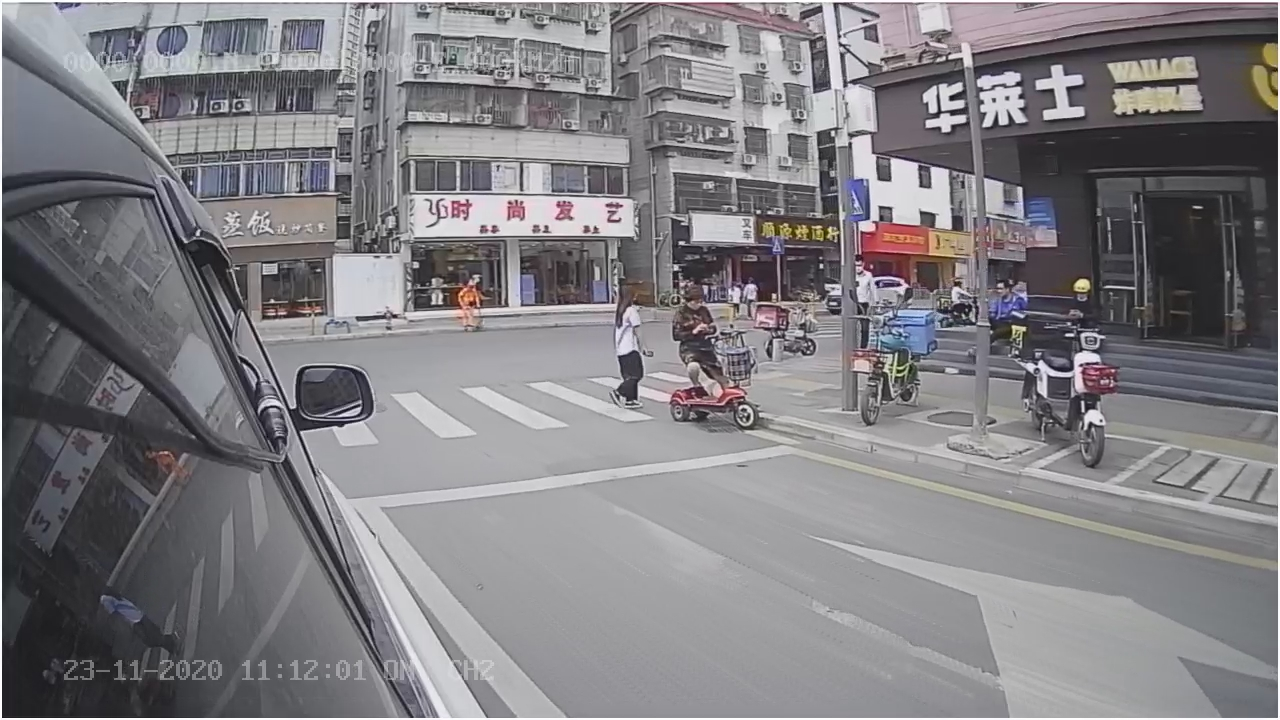person: (598, 274, 659, 414)
